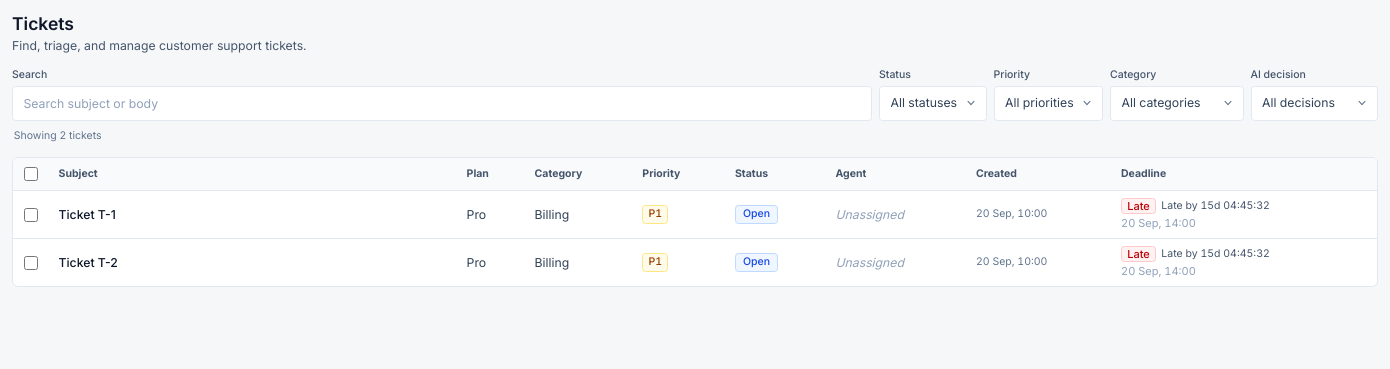
Test: TicketsWorkspace Bulk Actions UI › select all visible selects all items and updates bar count
What coordinates should you click on to do the following:
click the checkbox named "Select all visible tickets"
I would click on:
 (30, 174)
Its box is x1=24 y1=167 x2=38 y2=181.
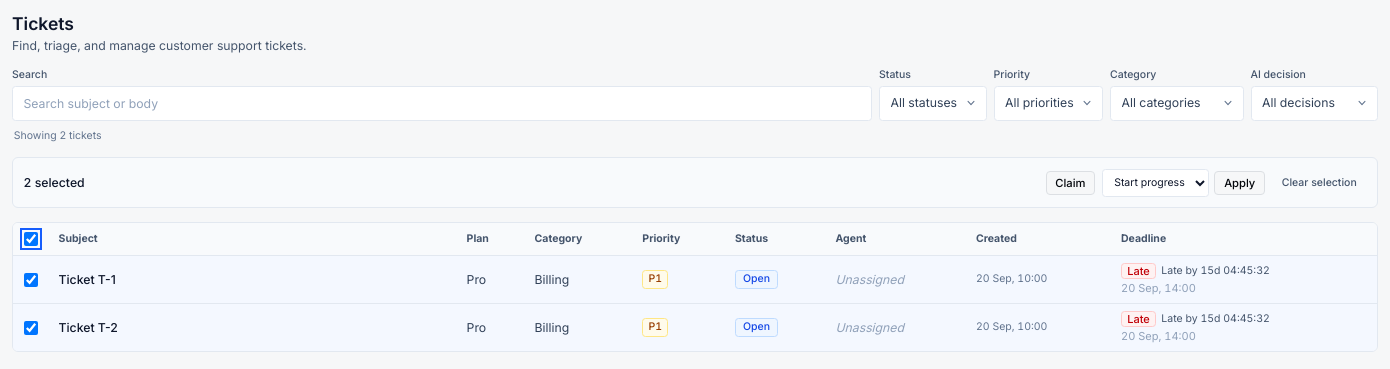
Now the text "2 selected" is shown, box x1=24 y1=174 x2=85 y2=192
